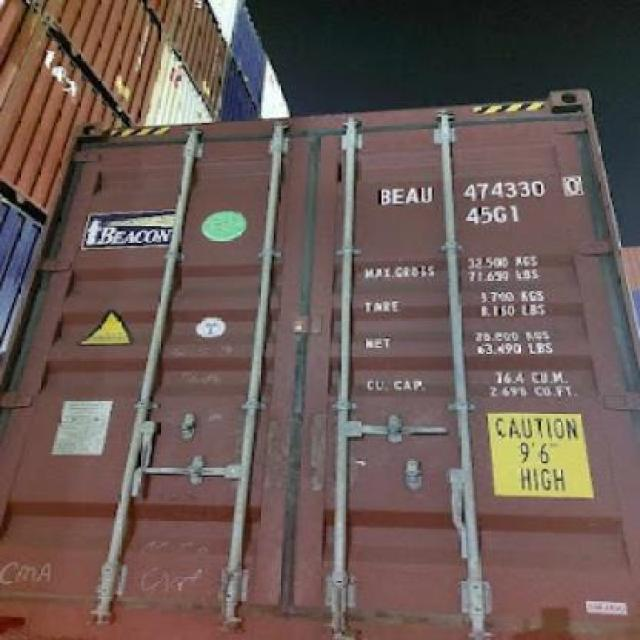ISO: (467, 204, 522, 224)
container_number: (381, 172, 579, 202)
